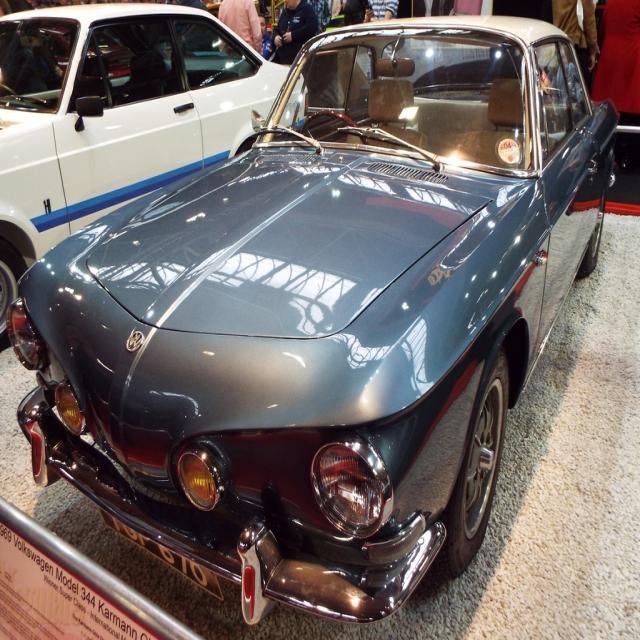car: (11, 27, 593, 619)
